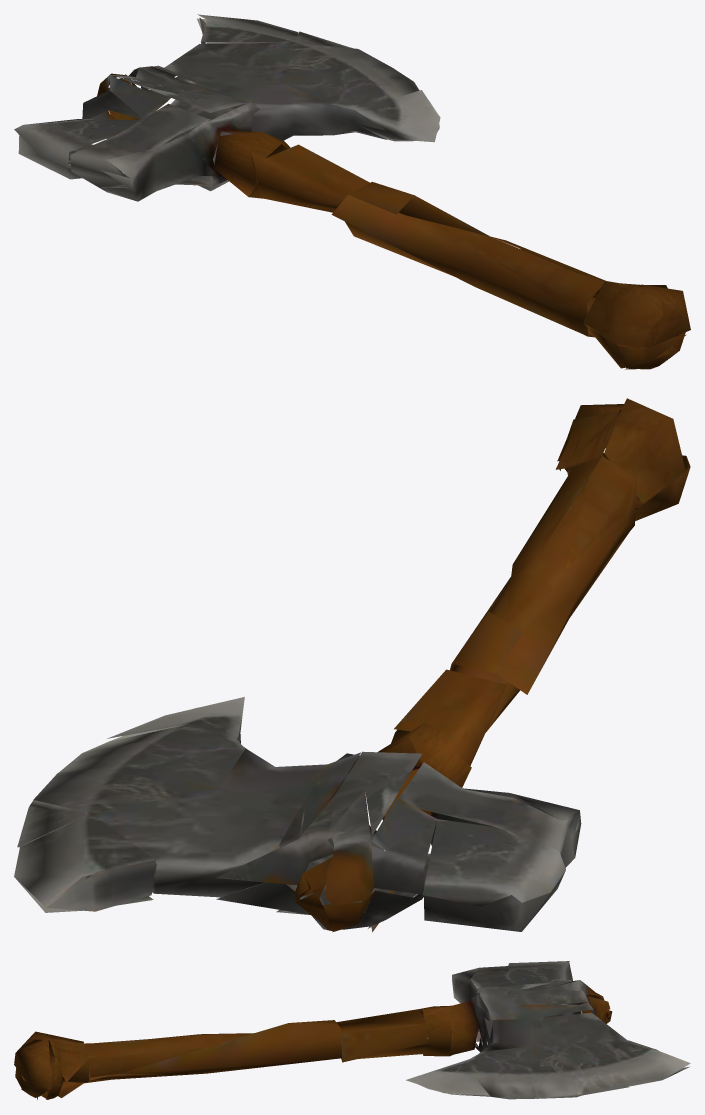
Rendered from war_axe_lod1.fbx.
The picture shows the model from 3 angles, top to bottom: view 1: azimuth 30°, elevation 25°; view 2: azimuth 150°, elevation 25°; view 3: azimuth 270°, elevation 25°; orthographic projection. The views are drawn at different scales.
Parts seen in each view (by area): view 1: tripo_node_071ea4a5-01ec-4166-8035-65d98b4b7d9d; view 2: tripo_node_071ea4a5-01ec-4166-8035-65d98b4b7d9d; view 3: tripo_node_071ea4a5-01ec-4166-8035-65d98b4b7d9d.
Boxes of the visible parts, x1=… form: tripo_node_071ea4a5-01ec-4166-8035-65d98b4b7d9d: x1=14, y1=14, x2=690, y2=369; tripo_node_071ea4a5-01ec-4166-8035-65d98b4b7d9d: x1=14, y1=398, x2=690, y2=932; tripo_node_071ea4a5-01ec-4166-8035-65d98b4b7d9d: x1=14, y1=961, x2=690, y2=1099.
Bounding box in the file's own units: 0.7115 × 0.1553 × 1.55.
